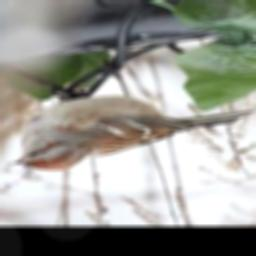Sparrow: (13, 60, 256, 171)
